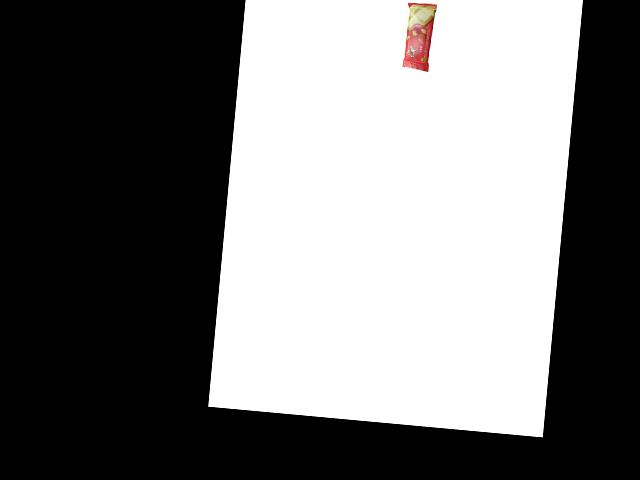chocolate: (399, 1, 441, 76)
